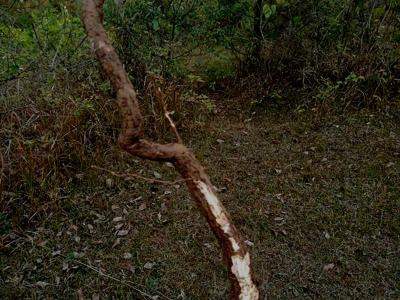Root: (82, 0, 258, 300)
